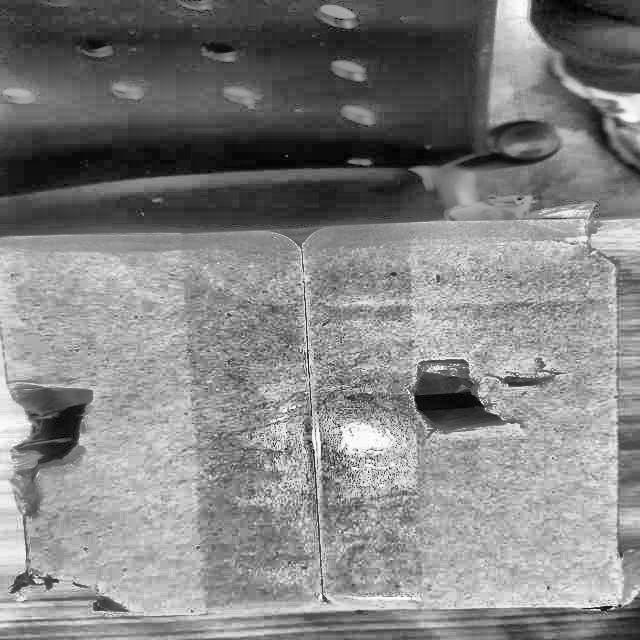box: (0, 188, 639, 624)
hole: (404, 357, 562, 435), (8, 376, 108, 492)
